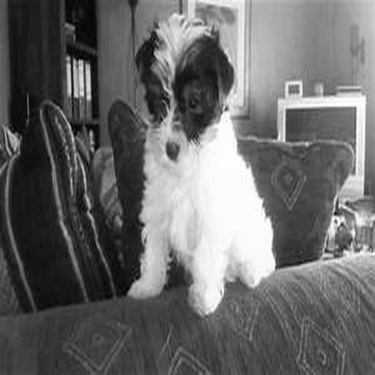dog: (84, 9, 286, 321)
